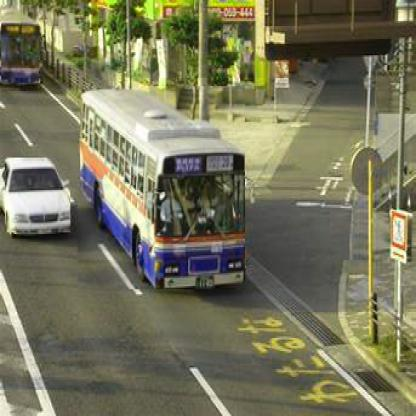bus: (79, 87, 247, 292), (2, 6, 41, 85)
car: (6, 159, 72, 235)
